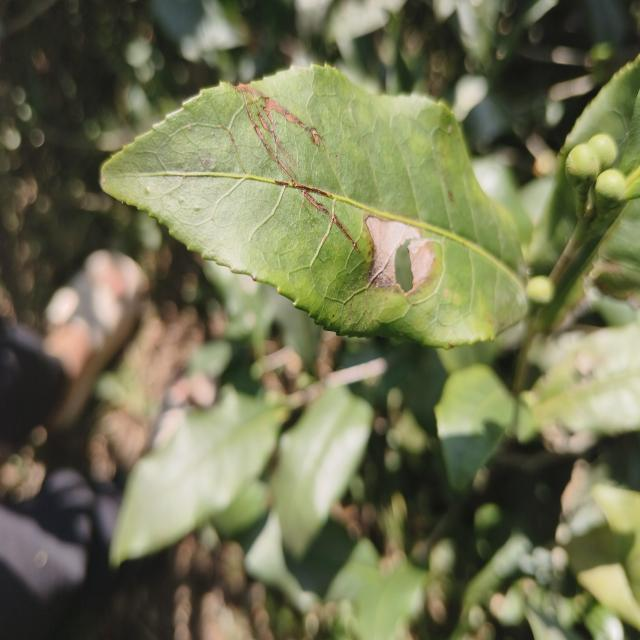Leaf: (101, 66, 528, 347), (110, 387, 289, 565), (271, 387, 372, 558), (525, 323, 640, 434), (435, 364, 515, 489)
